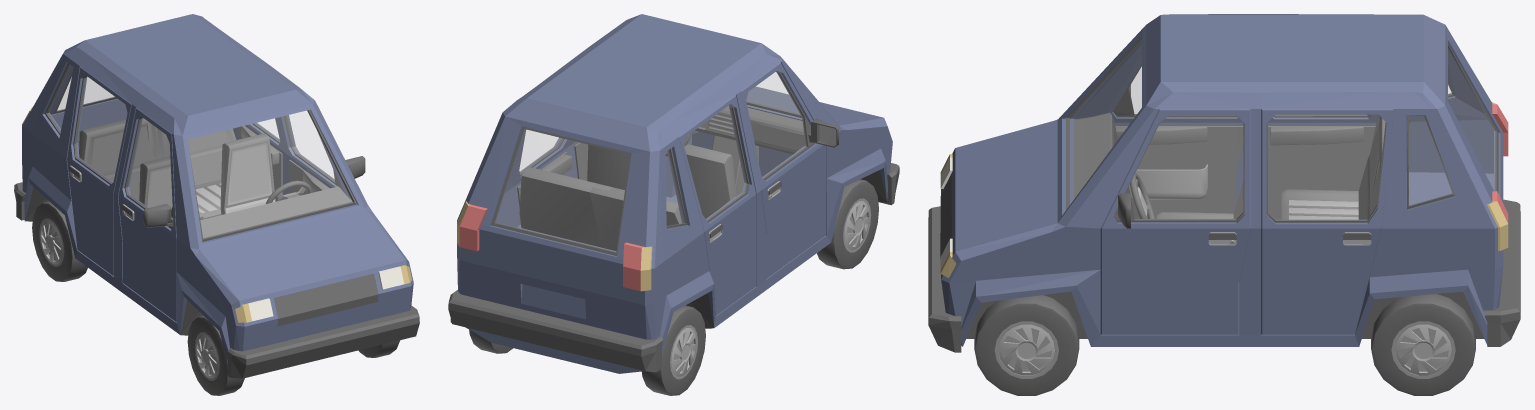
3 views of the same model, side by side, from view 1: azimuth 30°, elevation 25°; view 2: azimuth 150°, elevation 25°; view 3: azimuth 270°, elevation 25° (orthographic). The views are drawn at different scales.
Parts seen in each view (by area): view 1: Chassis_Chassis_0, FR_Wheel_Tire_0, FL_Door_Windows_0, Steerwheel_InteriorPanel_0; view 2: Chassis_Chassis_0, FR_Wheel_Tire_0, FL_Door_Windows_0; view 3: Chassis_Chassis_0, FR_Wheel_Tire_0, FL_Door_Windows_0, Steerwheel_InteriorPanel_0.
Part boxes in pixels (bbox=[...]): Chassis_Chassis_0: bbox=[22, 14, 413, 360]; FR_Wheel_Tire_0: bbox=[14, 63, 419, 395]; FL_Door_Windows_0: bbox=[48, 65, 352, 237]; Steerwheel_InteriorPanel_0: bbox=[266, 180, 311, 203]; Chassis_Chassis_0: bbox=[457, 14, 892, 373]; FR_Wheel_Tire_0: bbox=[448, 71, 899, 395]; FL_Door_Windows_0: bbox=[495, 72, 805, 251]; Chassis_Chassis_0: bbox=[941, 14, 1503, 346]; FR_Wheel_Tire_0: bbox=[928, 35, 1520, 395]; FL_Door_Windows_0: bbox=[1069, 41, 1494, 219]; Steerwheel_InteriorPanel_0: bbox=[1130, 173, 1154, 218].
Bounding box in the file's own units: 5.14 × 5.15 × 9.39.
4 materials, 4 textured.
